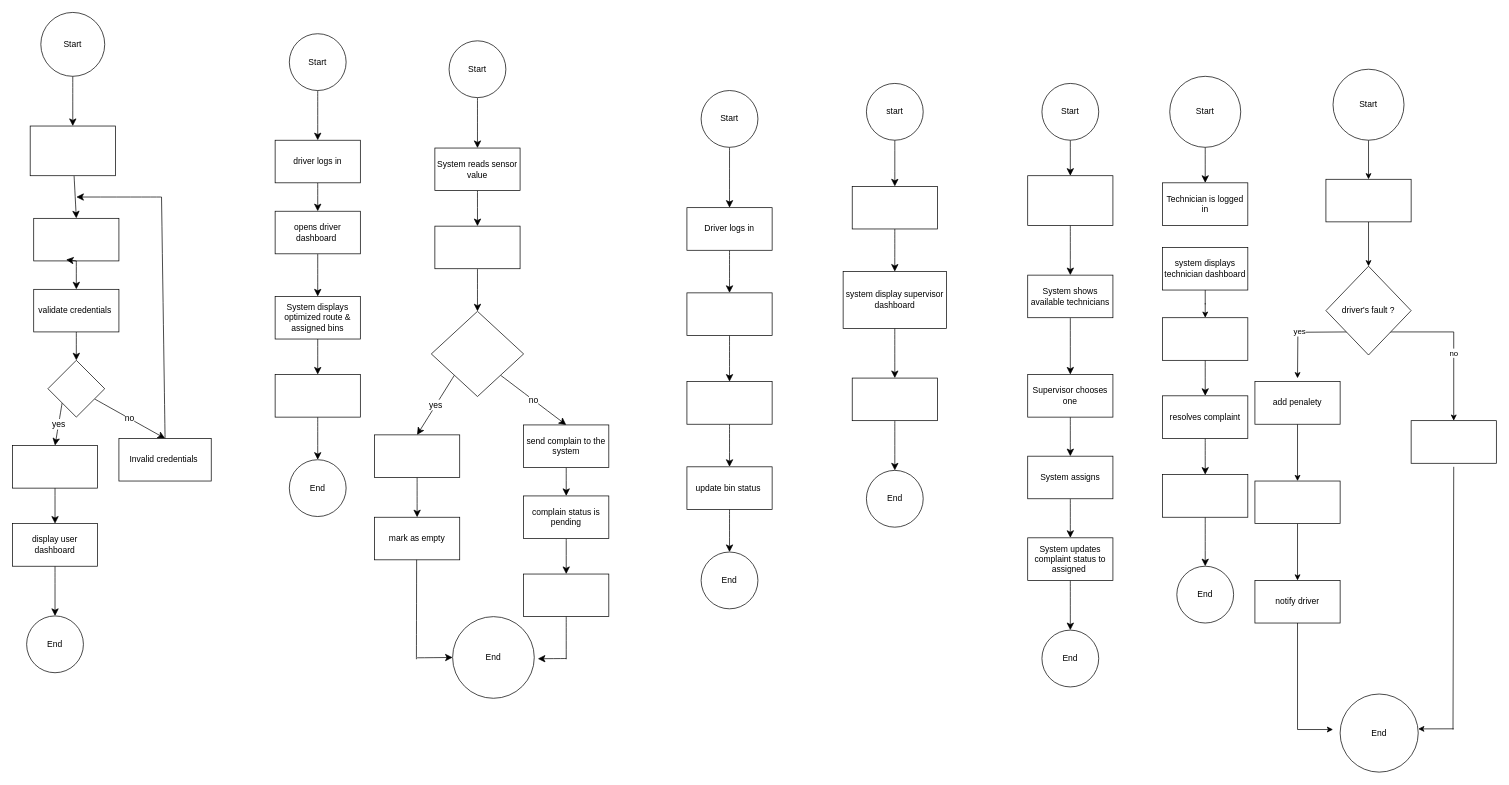
Some shapes in this 1509 by 785 pixel diagram are drawn without their labels. The shapes that lost their labels are listed below. From the top down, each one's centre as x and y in pixels, then its label:
At pixel 72 150: "open login page".
At pixel 894 207: "Supervisor is logged in".
At pixel 1070 200: "supervisor selects a complaint".
At pixel 1368 200: "System receives verified complaint".
At pixel 76 239: "insert username and password".
At pixel 477 247: "reads fill level".
At pixel 729 313: "Driver selects bin".
At pixel 477 354: "is empty?".
At pixel 1205 338: "views assigned complaint".
At pixel 76 388: "is valid?".
At pixel 317 395: "driver views his assigned task for the day".
At pixel 729 402: "Driver presses “Confirm Bin Empty”".
At pixel 894 399: "Supervisor views the complains list".
At pixel 417 455: "no complain needed".
At pixel 1453 441: "no penalty added".
At pixel 55 466: "user logged in succesfully".
At pixel 1205 495: "Update Complaint Status".
At pixel 1297 502: "Record penalty in system".
At pixel 566 595: "system notifies supervisor".
